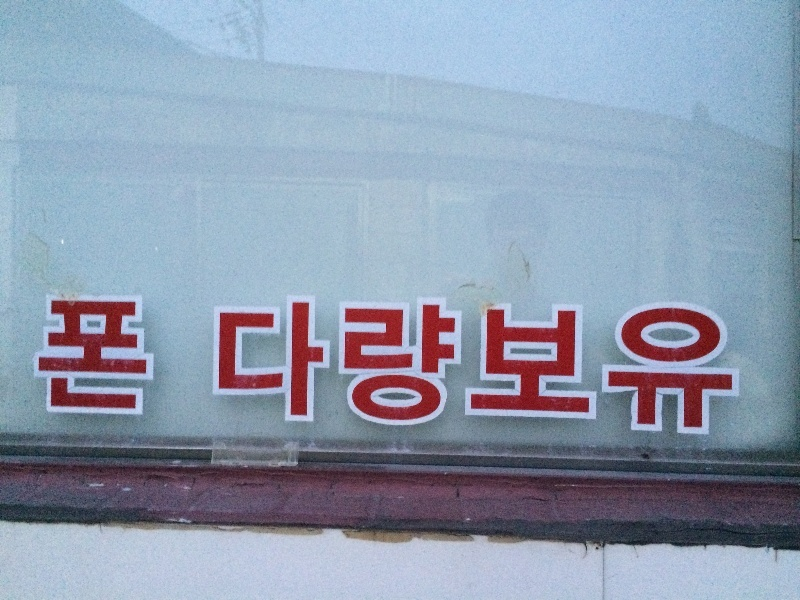text: (737, 284, 753, 448), (209, 284, 224, 448), (225, 284, 240, 448), (241, 284, 256, 448), (257, 284, 272, 448), (273, 284, 288, 448), (289, 284, 304, 448), (305, 284, 320, 448), (321, 284, 336, 448), (337, 284, 352, 448), (353, 284, 368, 448), (369, 284, 384, 448), (385, 284, 400, 448), (401, 284, 416, 448), (417, 284, 432, 448), (433, 284, 448, 448), (449, 284, 464, 448), (465, 284, 480, 448), (481, 284, 496, 448), (497, 284, 512, 448), (513, 284, 528, 448), (529, 284, 544, 448), (545, 284, 560, 448), (561, 284, 576, 448), (577, 284, 592, 448), (593, 284, 608, 448), (609, 284, 624, 448), (625, 284, 640, 448), (641, 284, 656, 448), (657, 284, 672, 448), (673, 284, 688, 448), (689, 284, 704, 448), (705, 284, 720, 448), (721, 284, 736, 448), (33, 285, 48, 434), (49, 285, 64, 434), (65, 285, 80, 434), (81, 285, 96, 434), (97, 285, 112, 434), (113, 285, 128, 434), (129, 285, 144, 434), (145, 285, 159, 434), (205, 284, 208, 448)
